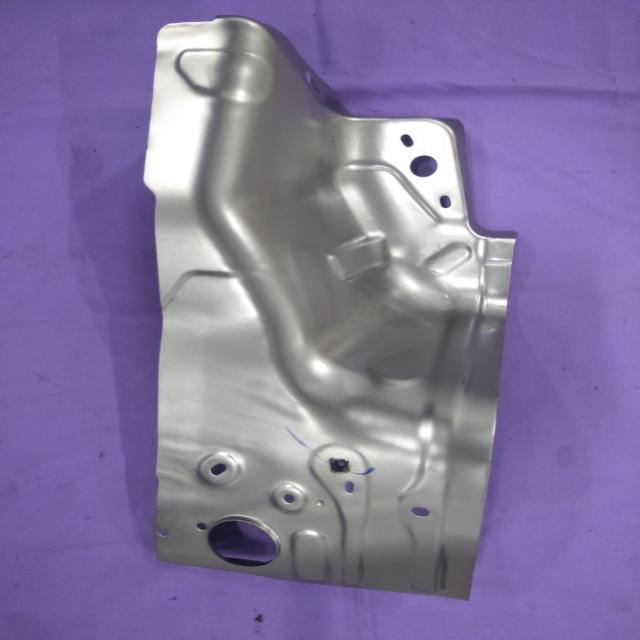Healthy: (142, 14, 520, 602)
